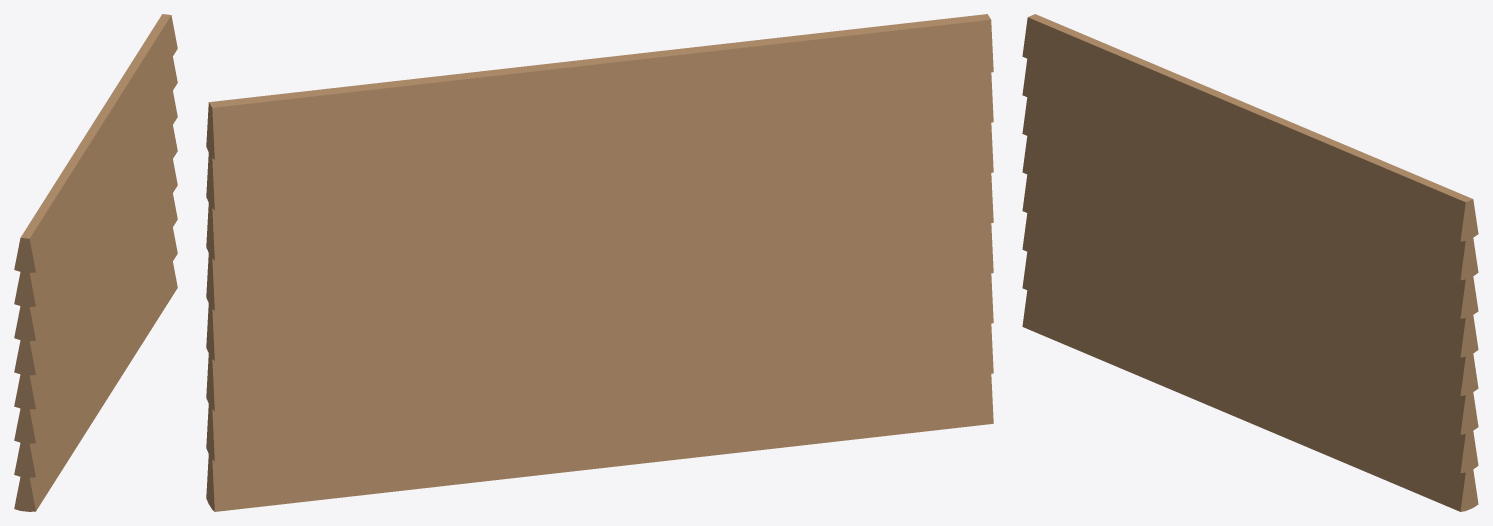
Rendered from Wall B-col.glb.
3 views of the same model, side by side, from view 1: azimuth 30°, elevation 25°; view 2: azimuth 150°, elevation 25°; view 3: azimuth 270°, elevation 25° (orthographic). The views are drawn at different scales.
Visible parts, largest first — view 1: Wall B-col.001; view 2: Wall B-col.001; view 3: Wall B-col.001.
Boxes of the visible parts, box(x1,y1,x2,y2) form: Wall B-col.001: box(14, 14, 177, 511); Wall B-col.001: box(206, 14, 993, 511); Wall B-col.001: box(1022, 14, 1478, 511).
Bounding box in the file's own units: 2.95 × 2.2 × 2.95.
